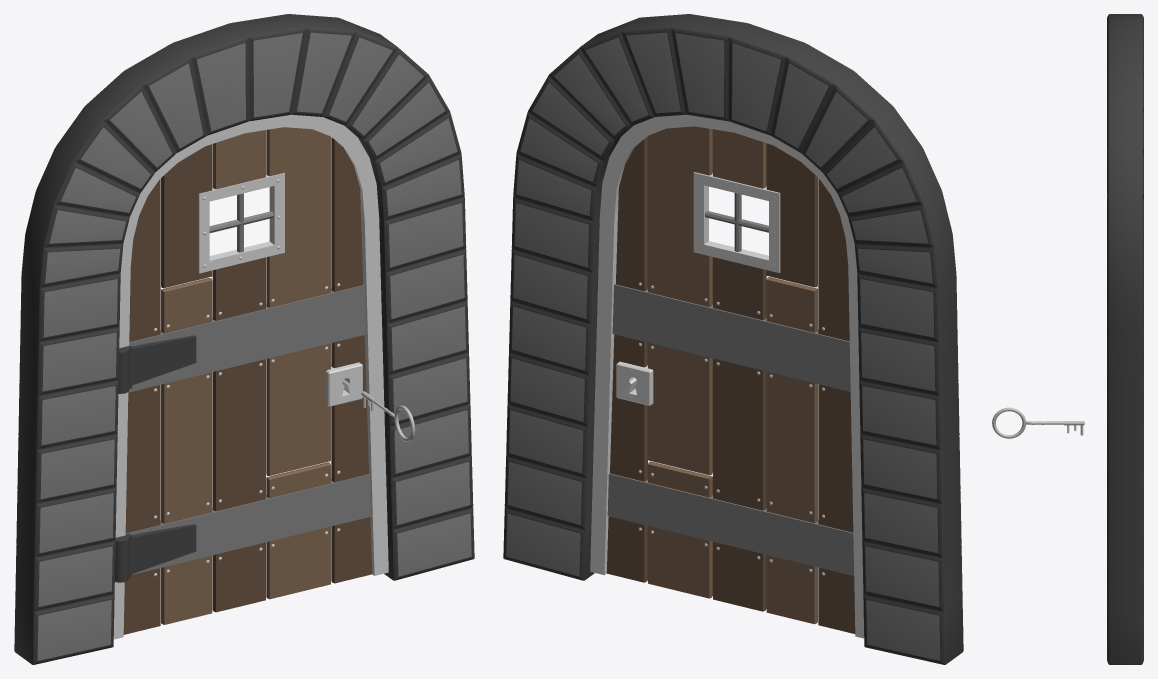
File: CloseDoor.FBX
3 renders of one model, left to right at view 1: azimuth 30°, elevation 25°; view 2: azimuth 150°, elevation 25°; view 3: azimuth 270°, elevation 25°, orthographic. The views are drawn at different scales.
Parts seen in each view (by area): view 1: Дверной проем001, Дверь с замком!; view 2: Дверной проем001, Дверь с замком!; view 3: Дверной проем001, Ключ от двери.
Part boxes in pixels (x1,y1,x2,y2): Дверной проем001: (14,14,474,664); Дверь с замком!: (113,114,388,639); Дверной проем001: (503,14,963,664); Дверь с замком!: (590,114,864,638); Дверной проем001: (1107,14,1143,664); Ключ от двери: (992,407,1084,438).
Bounding box in the file's own units: 43.74 × 54.83 × 14.35.
